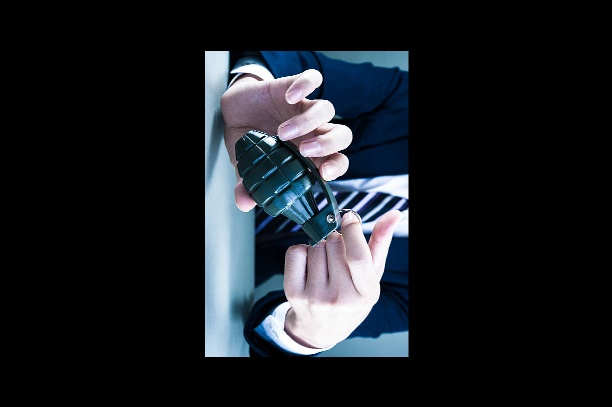e1: (233, 124, 361, 241)
